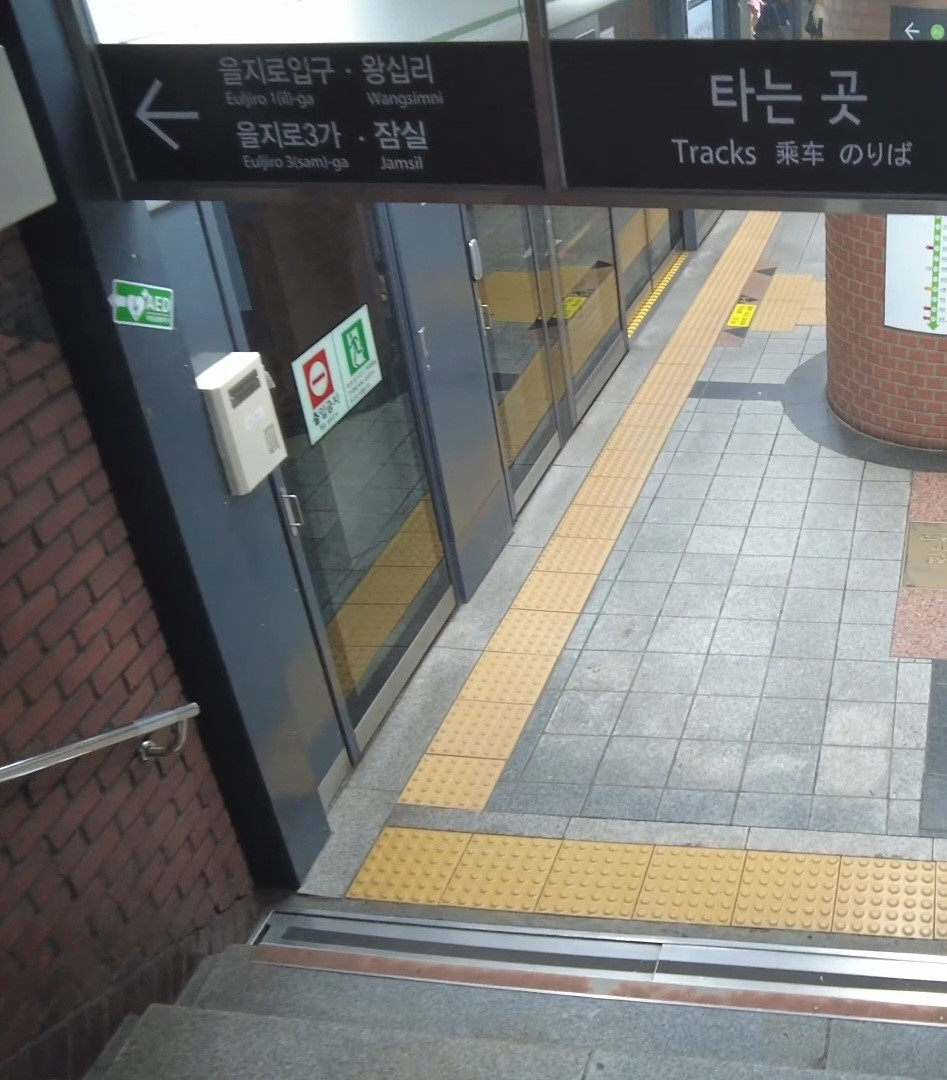warningBlock: (842, 861, 933, 941), (747, 851, 841, 928), (555, 842, 638, 919), (367, 831, 460, 898), (650, 846, 729, 920), (466, 829, 547, 901), (422, 750, 496, 804), (505, 606, 569, 651), (460, 702, 522, 748), (490, 652, 543, 695), (532, 572, 591, 603), (558, 547, 611, 562)
